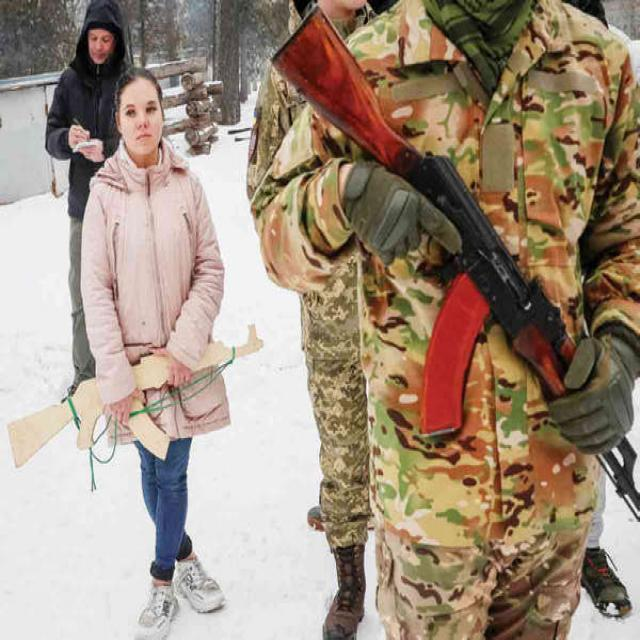weapon: (270, 2, 640, 523), (5, 322, 265, 469)
